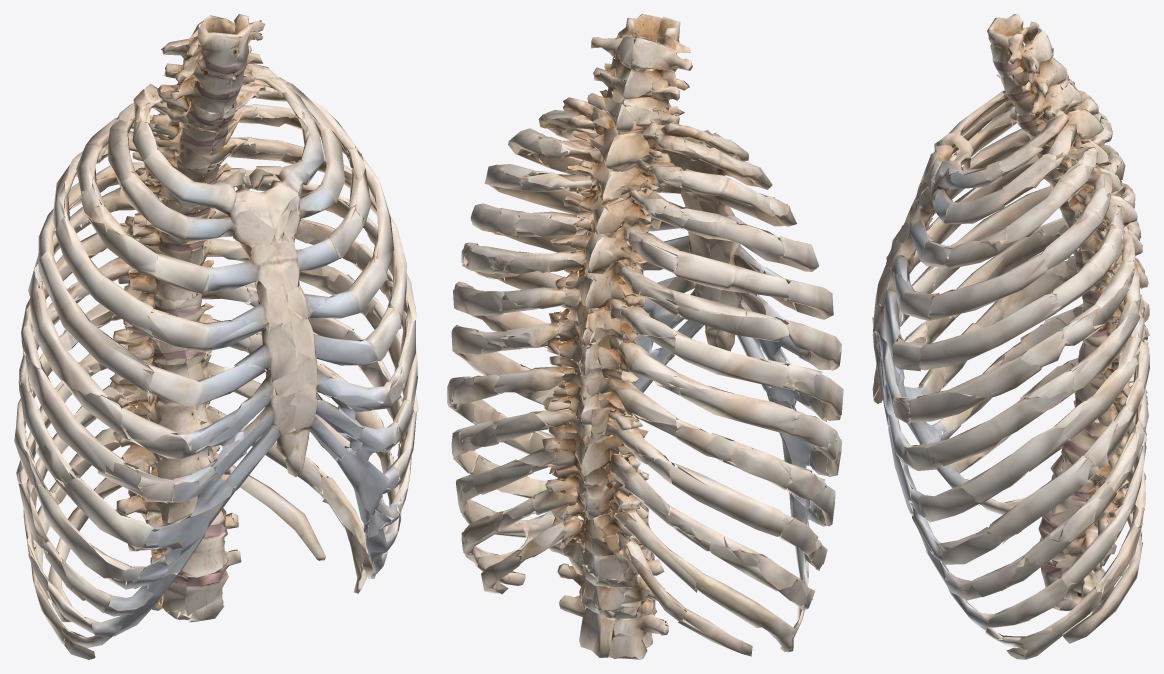
File: Adam_Rib.glb
The picture shows the model from 3 angles, left to right: view 1: azimuth 30°, elevation 25°; view 2: azimuth 150°, elevation 25°; view 3: azimuth 270°, elevation 25°; orthographic projection. The views are drawn at different scales.
Visible parts, largest first — view 1: human-rib-cage; view 2: human-rib-cage; view 3: human-rib-cage.
Boxes of the visible parts, left/top/right/bottom form: human-rib-cage: left=14, top=14, right=418, bottom=659; human-rib-cage: left=447, top=14, right=843, bottom=659; human-rib-cage: left=872, top=14, right=1149, bottom=659.
Bounding box in the file's own units: 0.3127 × 0.5 × 0.2172.
Materials: 1 (1 with a texture image).
